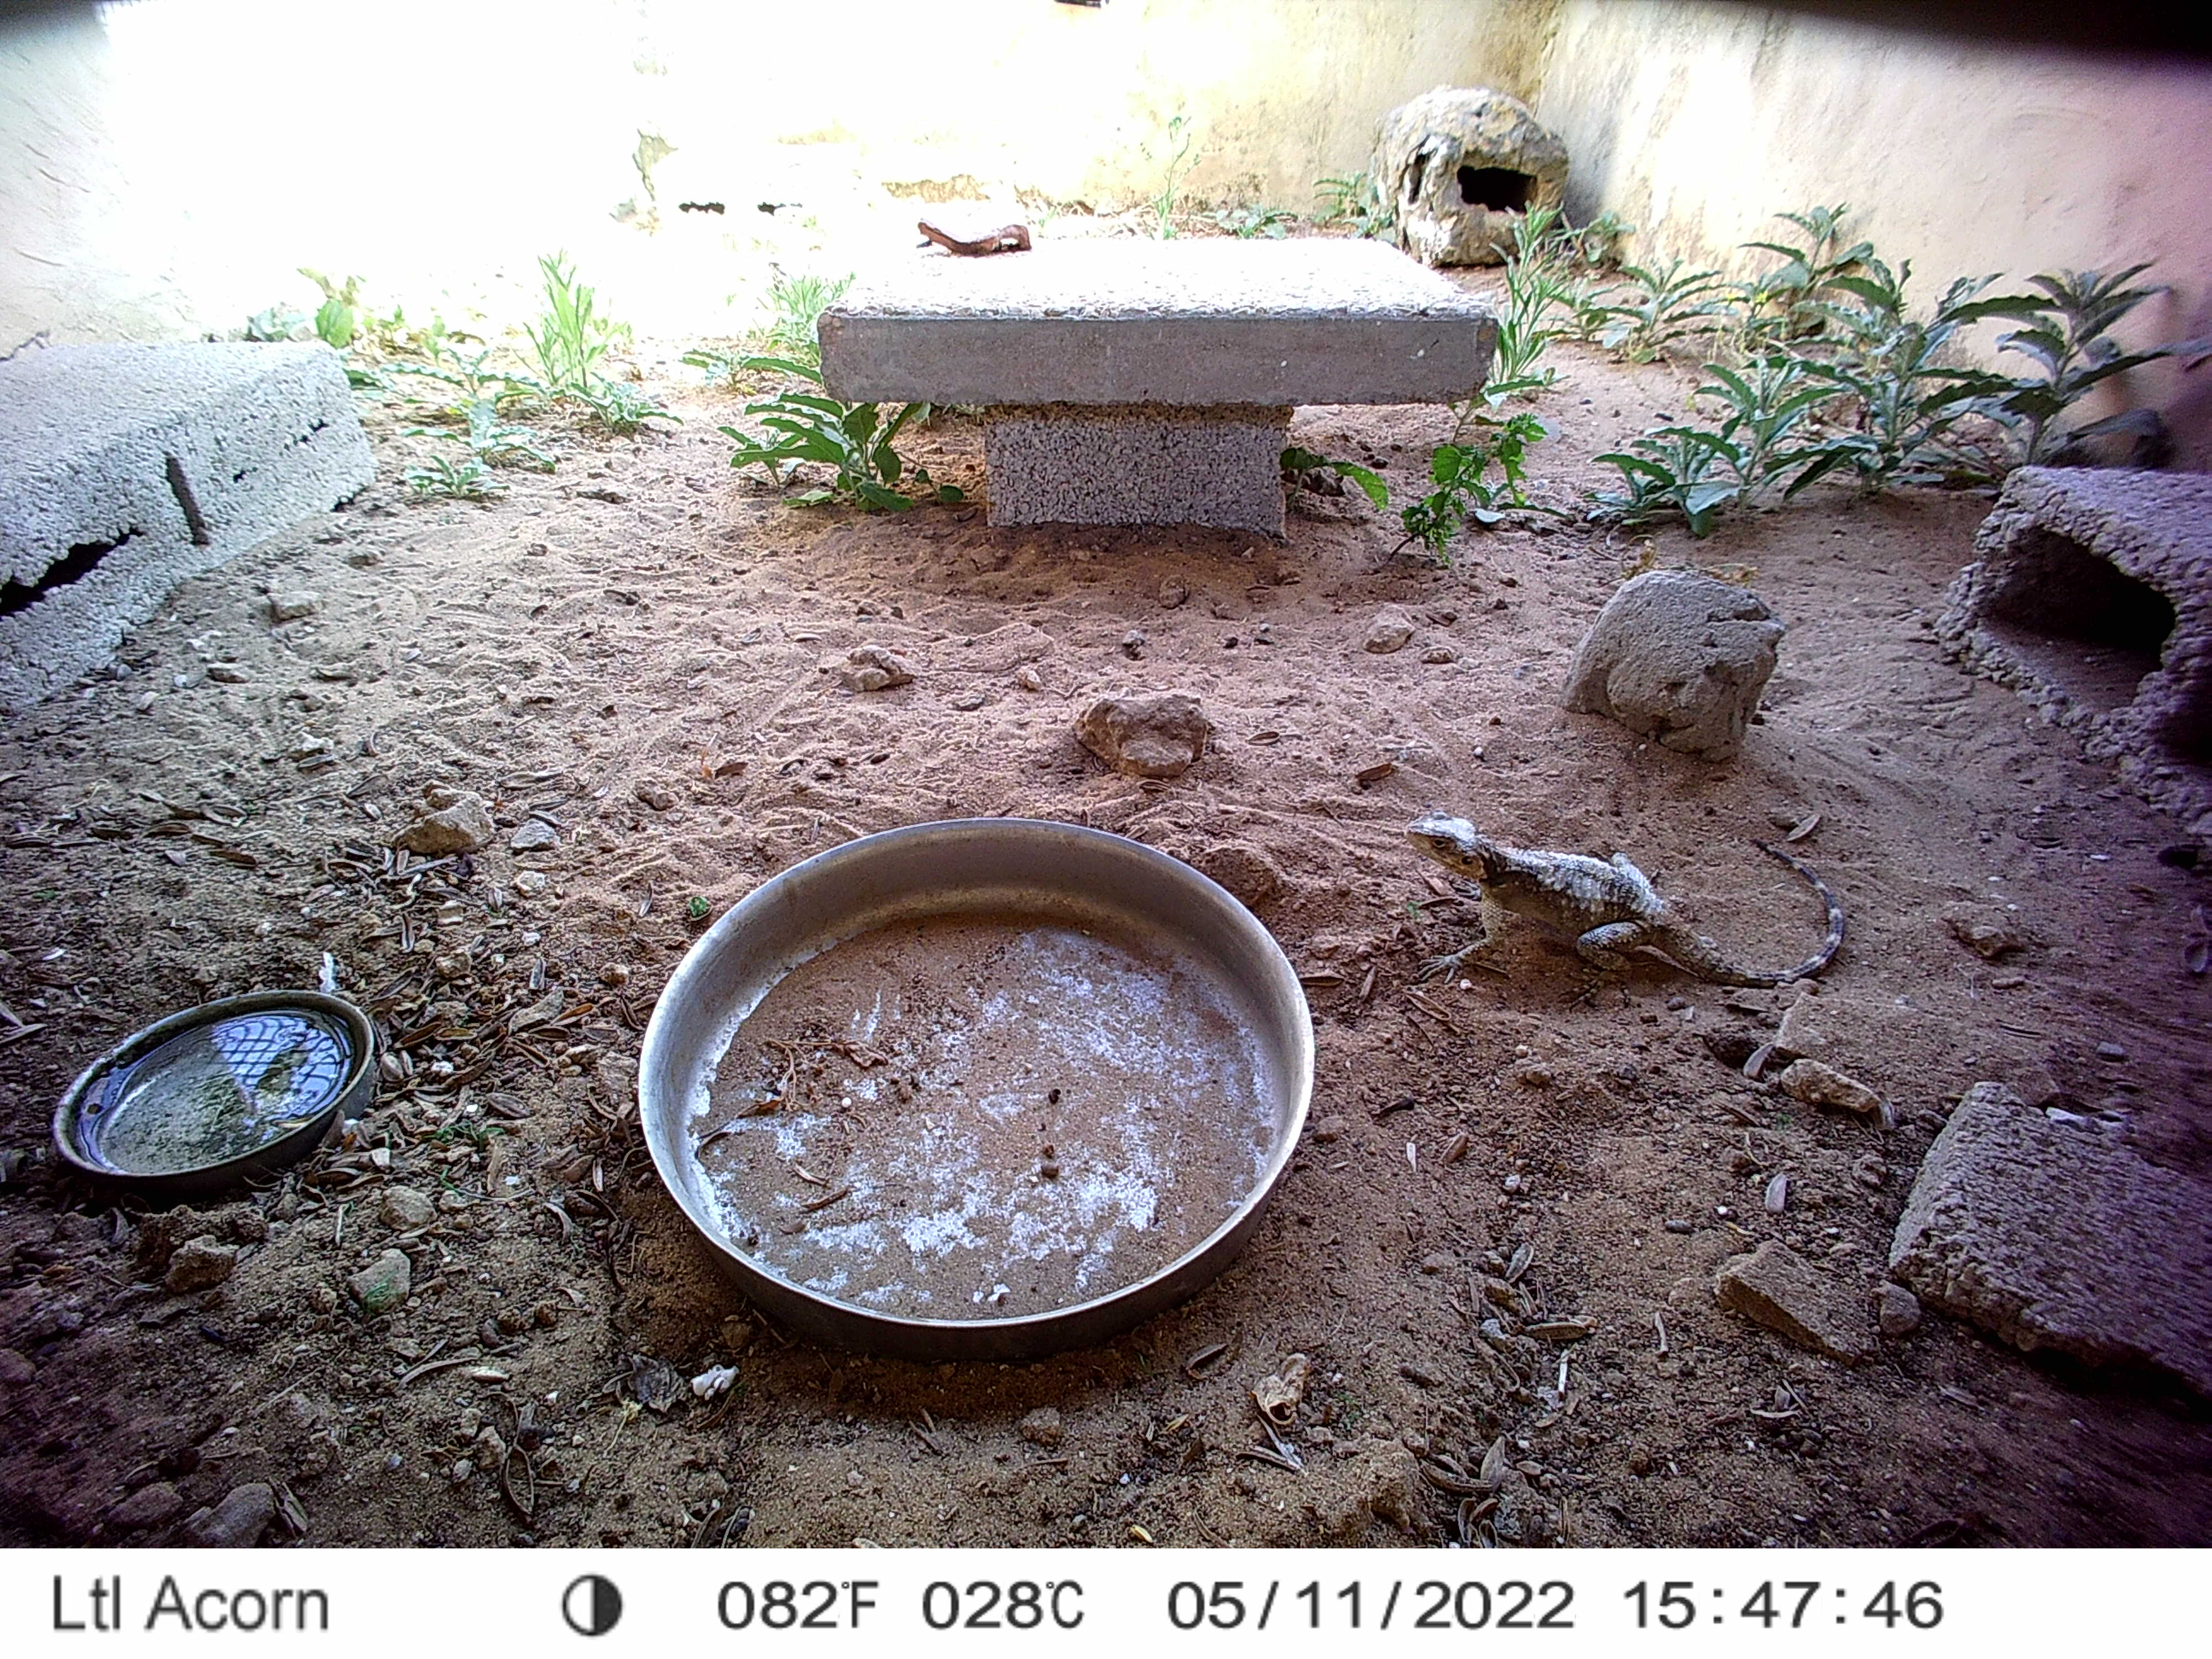lizard: (1390, 798, 1871, 1032)
